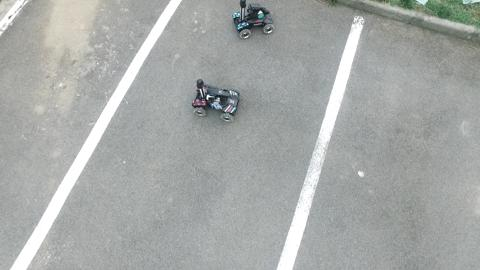chariot: (219, 1, 285, 46), (188, 76, 244, 128)
